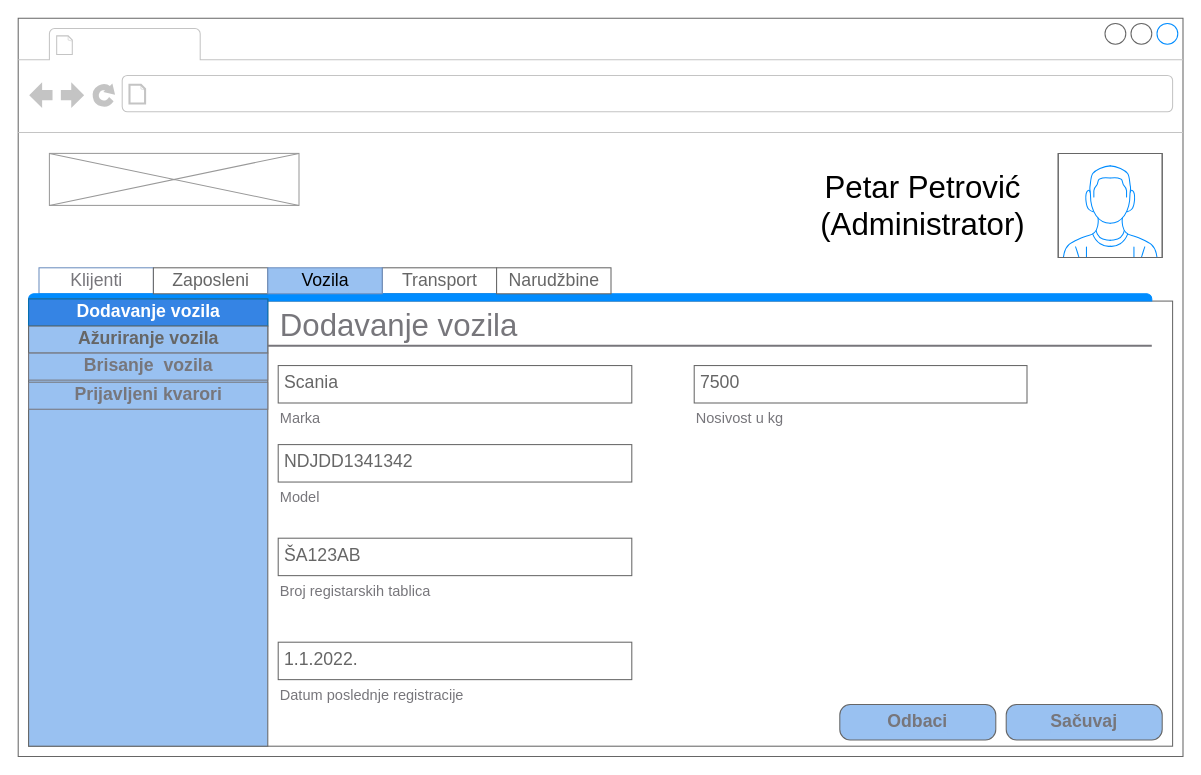
This 1201x775 diagram has some shape labels left out. The centre of each missing label's shape, as x and y in pixels:
"https://www.transportsecera.com/admin/klijenti" belongs at pixel 386 94.
"LOGO" belongs at pixel 173 178.
"Transport šećera" belongs at pixel 137 44.
